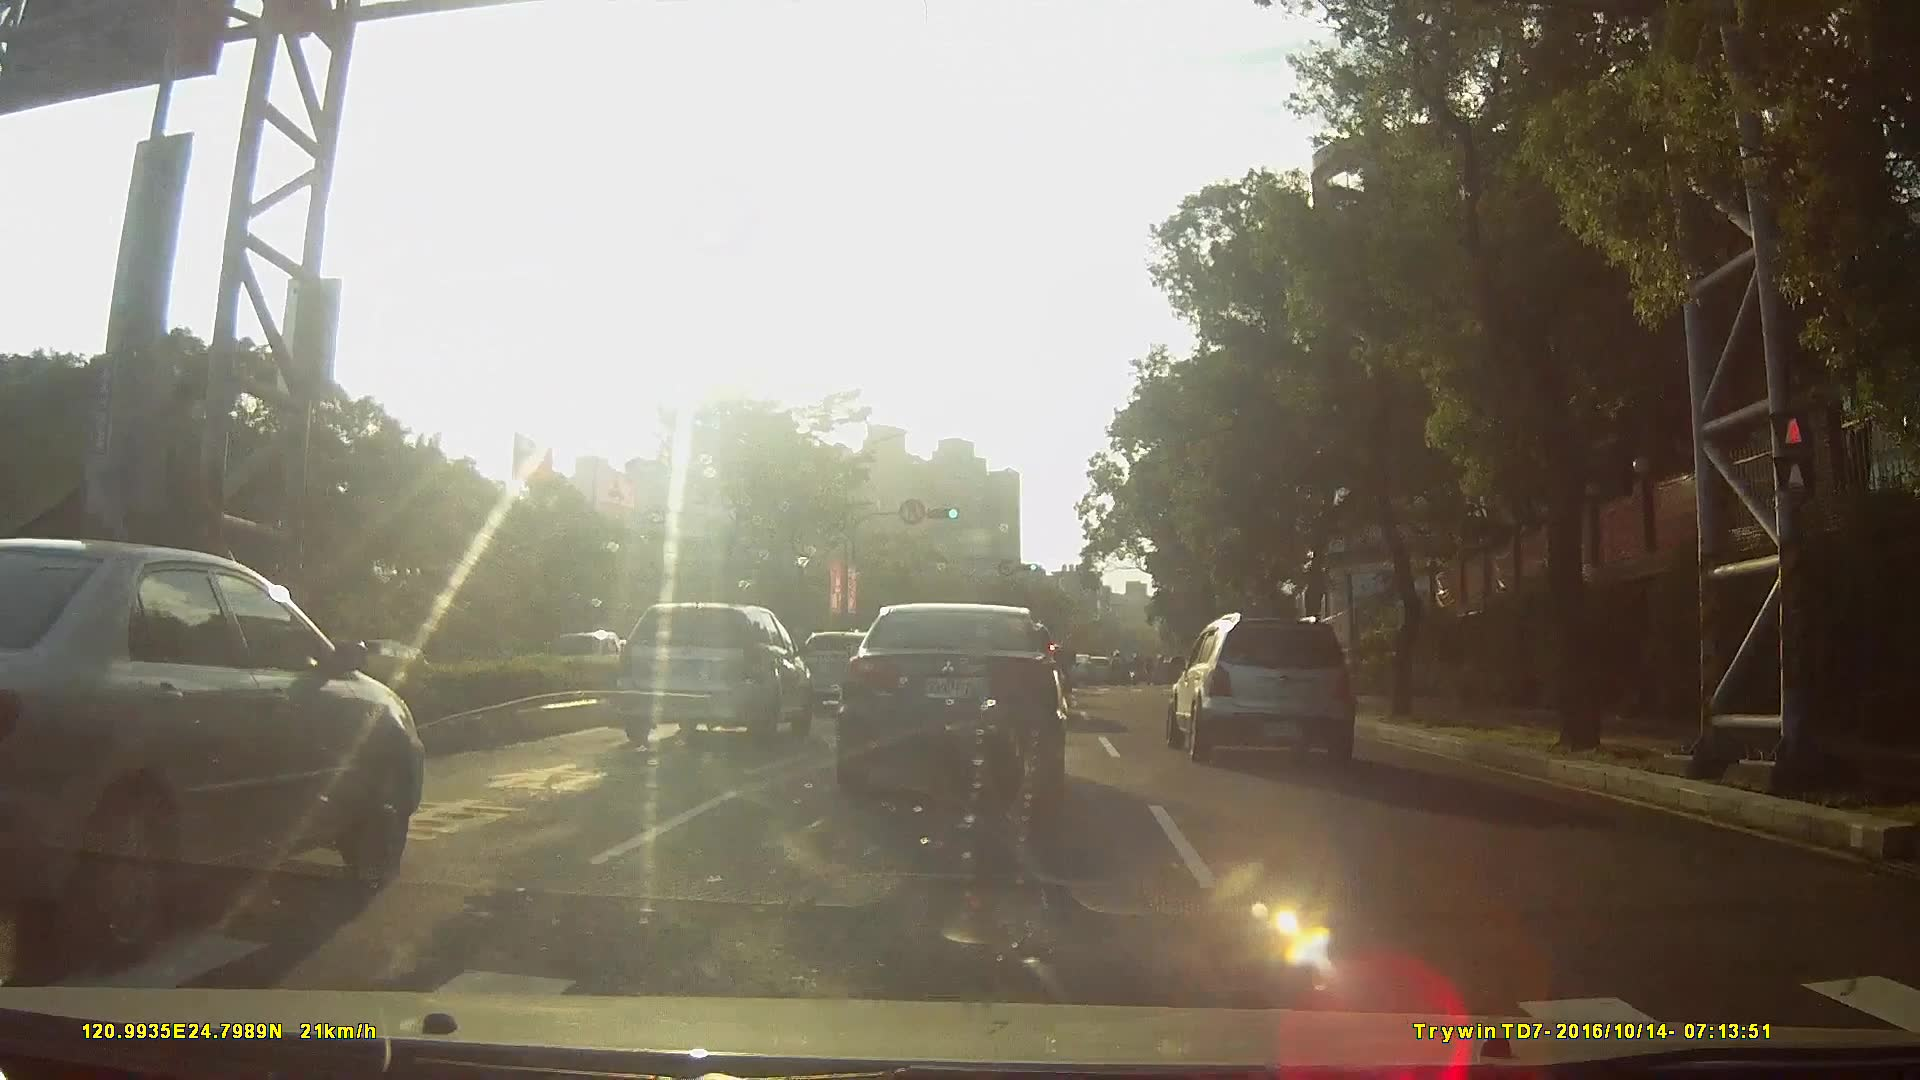vehicle: (1, 529, 439, 963), (837, 597, 1065, 804), (1160, 603, 1374, 760), (609, 600, 814, 745), (1060, 651, 1095, 686), (1079, 653, 1114, 684)
